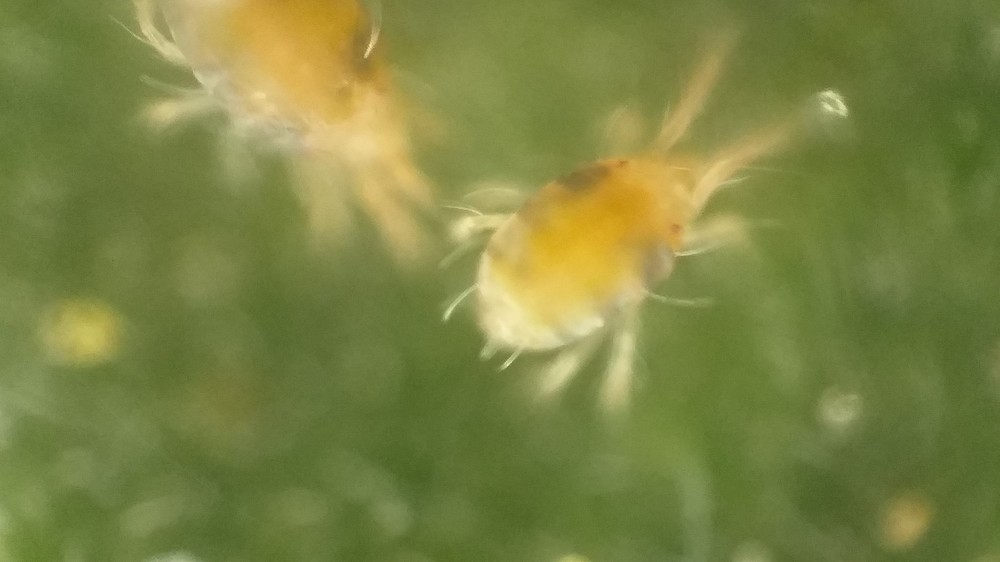Aracnido Rojo: (456, 44, 807, 423), (123, 5, 475, 276)
